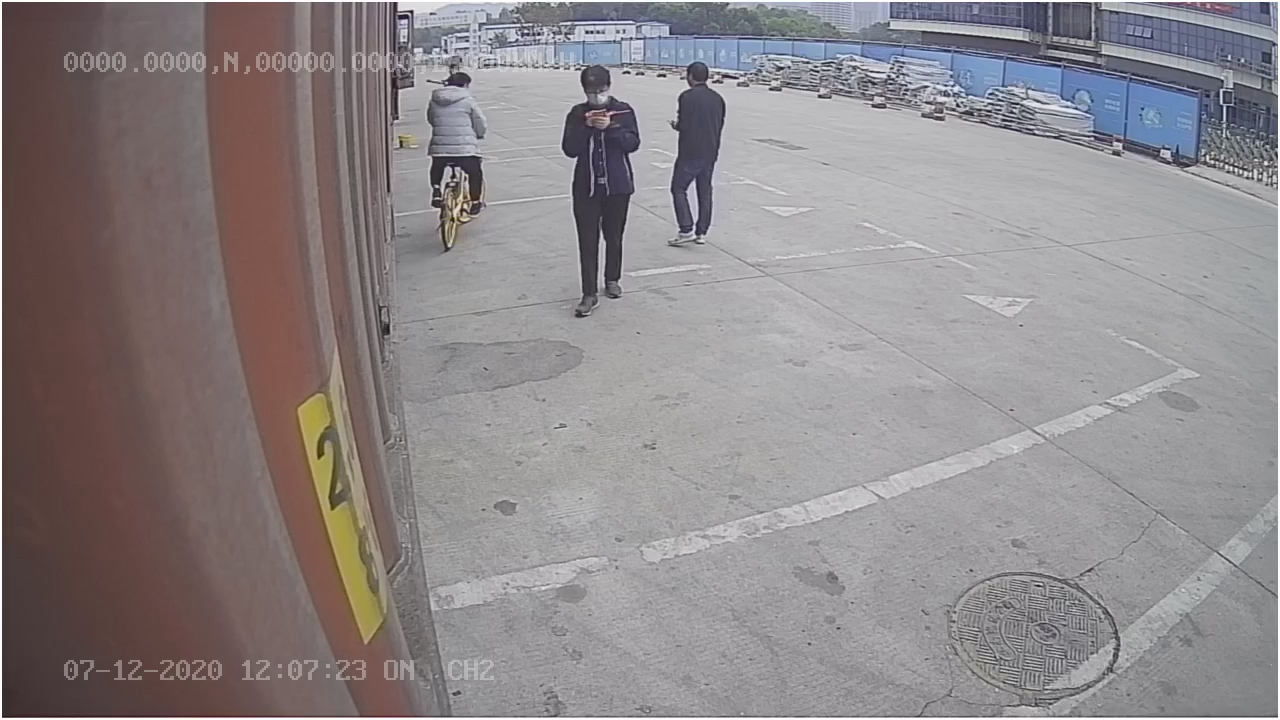person: (557, 60, 644, 317)
